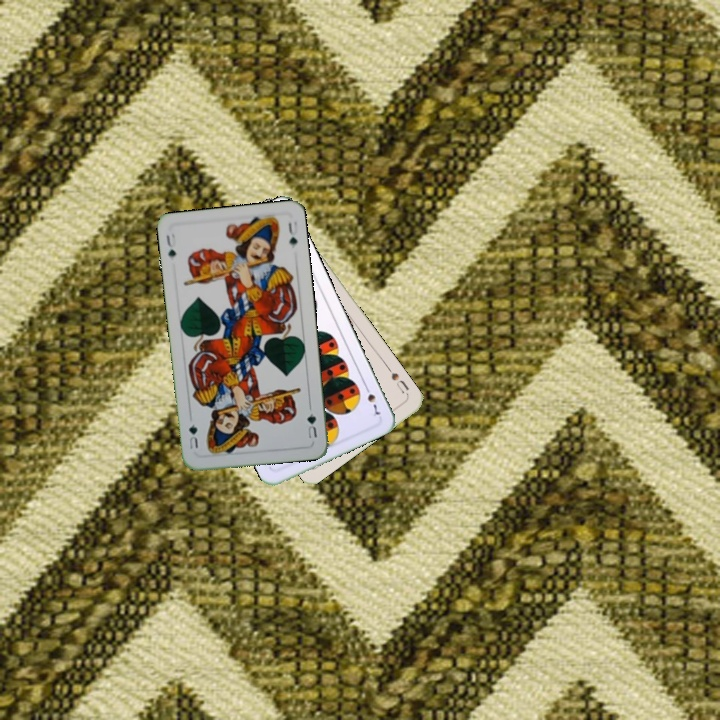GU: (303, 409, 320, 441), (162, 230, 179, 260)
S7: (361, 381, 382, 419)
SU: (383, 363, 411, 396)
